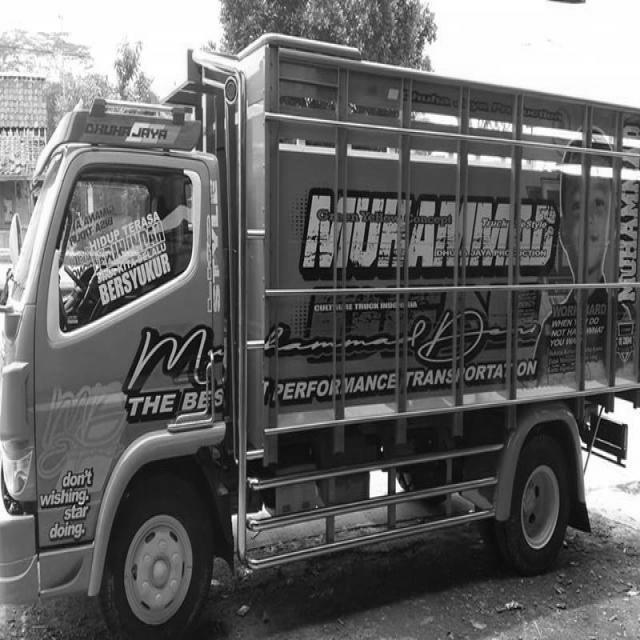truck: (1, 98, 289, 615)
